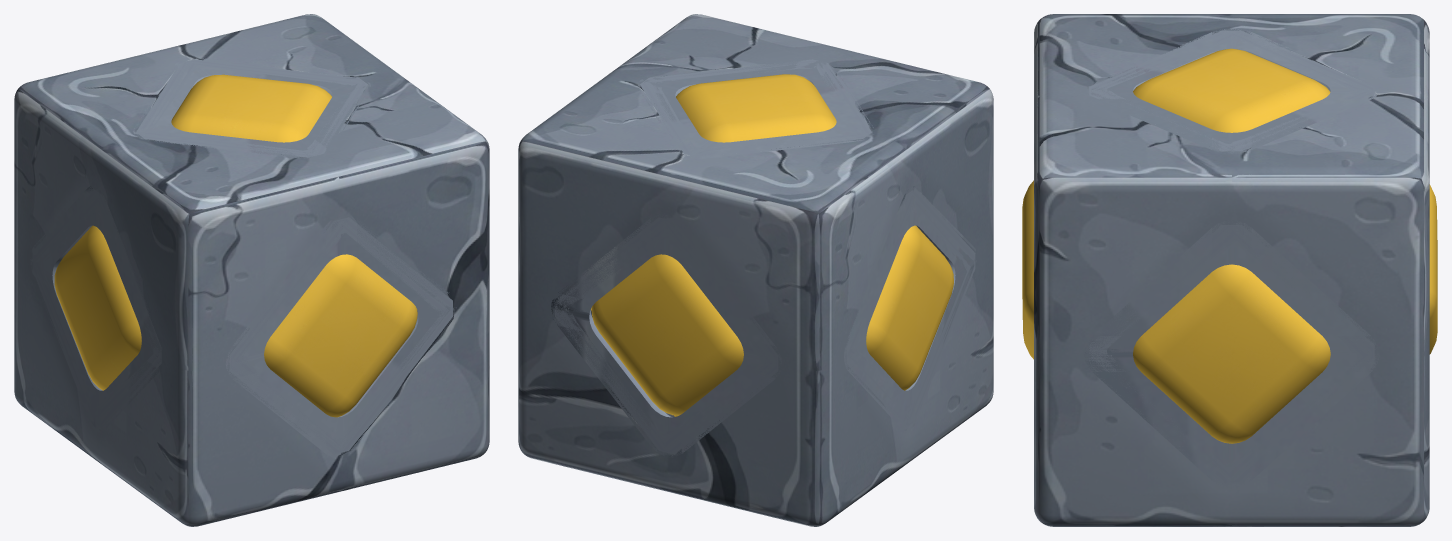
The model's file is CrystalRock(fixed).fbx.
3 renders of one model, left to right at view 1: azimuth 30°, elevation 25°; view 2: azimuth 150°, elevation 25°; view 3: azimuth 270°, elevation 25°, orthographic. The views are drawn at different scales.
Parts seen in each view (by area): view 1: Cube.002, Cube.003; view 2: Cube.002, Cube.003; view 3: Cube.002, Cube.003.
Part boxes in pixels (<box>): Cube.002: <box>14,14,489,526</box>; Cube.003: <box>54,74,417,417</box>; Cube.002: <box>518,14,993,526</box>; Cube.003: <box>591,74,953,416</box>; Cube.002: <box>1034,14,1429,526</box>; Cube.003: <box>1022,48,1437,443</box>.
Size of the model in its own units: 2.11 by 2.11 by 2.1.
2 materials, 2 textured.
